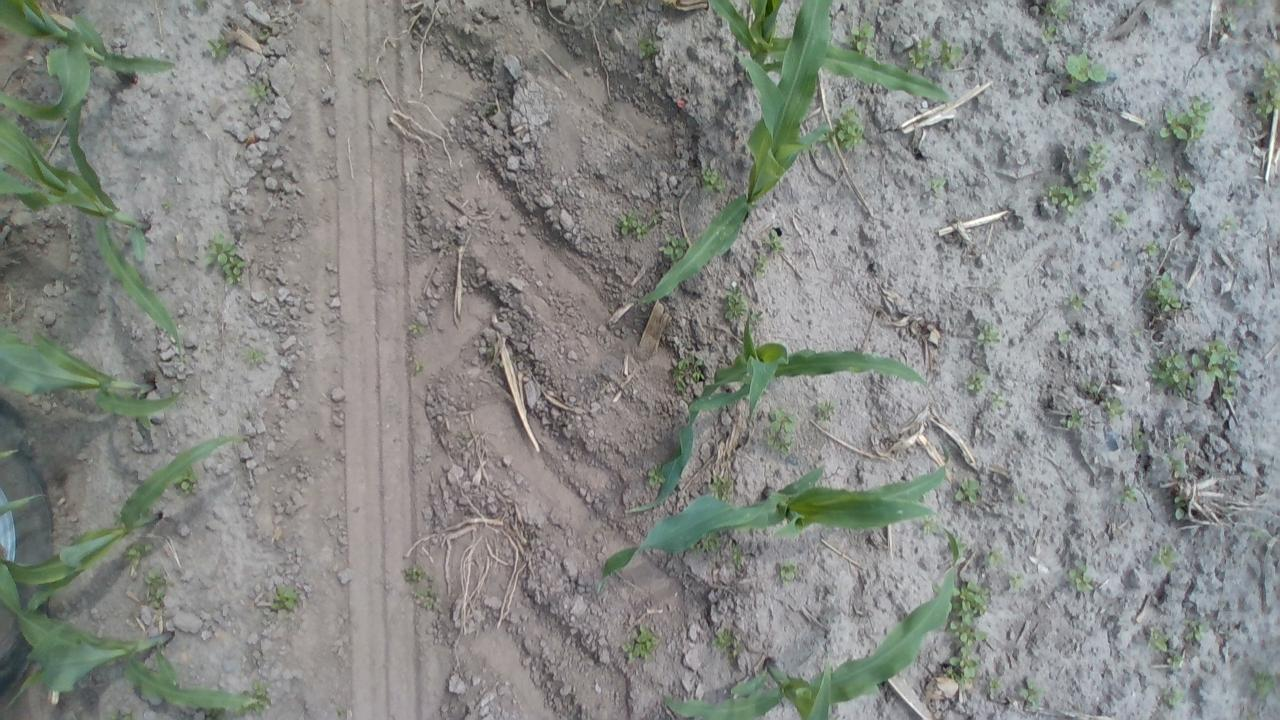Maize: (638, 0, 838, 309), (627, 318, 939, 516), (654, 529, 964, 720), (0, 59, 188, 350), (592, 452, 962, 594), (2, 432, 250, 625), (0, 571, 262, 710), (723, 5, 964, 124), (0, 0, 173, 123), (0, 323, 180, 427)
Weeds: (950, 582, 992, 664), (1192, 338, 1242, 400), (1156, 98, 1214, 146), (1068, 138, 1108, 200), (205, 234, 248, 287), (1147, 349, 1193, 395), (943, 636, 984, 684), (1064, 51, 1110, 90), (1146, 271, 1184, 317), (766, 404, 799, 454), (832, 103, 866, 150), (1151, 628, 1187, 670), (404, 566, 440, 608), (1252, 58, 1276, 118), (622, 624, 658, 663), (672, 354, 706, 395), (1044, 183, 1084, 216), (906, 36, 940, 73), (1148, 626, 1177, 665), (266, 583, 304, 612), (616, 209, 649, 242), (239, 682, 271, 716), (712, 626, 744, 659), (143, 568, 168, 610), (936, 36, 964, 72), (848, 21, 876, 55), (659, 232, 688, 263), (1040, 1, 1073, 28), (1249, 669, 1276, 701), (722, 290, 748, 322), (699, 165, 727, 194), (953, 476, 980, 506), (1041, 10, 1069, 38), (1150, 541, 1178, 569), (1068, 564, 1094, 592), (1142, 160, 1167, 188), (1186, 618, 1210, 646), (125, 544, 152, 568), (1020, 678, 1043, 706), (178, 467, 200, 496), (246, 78, 271, 103), (812, 398, 838, 422), (710, 476, 734, 502), (962, 368, 986, 394), (974, 324, 1000, 348), (636, 36, 660, 61), (925, 172, 948, 198), (762, 229, 784, 256), (1064, 288, 1086, 314), (1099, 398, 1126, 419), (696, 534, 724, 554), (778, 561, 802, 584), (207, 36, 230, 60), (1166, 454, 1187, 480), (1172, 493, 1192, 520), (1174, 170, 1195, 195), (1160, 688, 1186, 708), (1108, 208, 1132, 229), (646, 461, 664, 488), (1064, 409, 1084, 432), (729, 544, 746, 570), (982, 546, 1004, 566), (1128, 428, 1144, 454), (754, 253, 772, 276), (244, 346, 264, 366), (1219, 212, 1238, 232), (919, 518, 940, 536), (1220, 8, 1236, 30), (986, 674, 1004, 693), (1118, 487, 1138, 504), (1142, 239, 1160, 257), (406, 320, 425, 337), (408, 357, 426, 374), (1010, 572, 1026, 590), (989, 391, 1004, 407), (1174, 433, 1188, 448), (1086, 383, 1102, 396), (36, 137, 52, 150), (1056, 328, 1070, 342), (160, 200, 174, 212), (1014, 492, 1026, 505)
